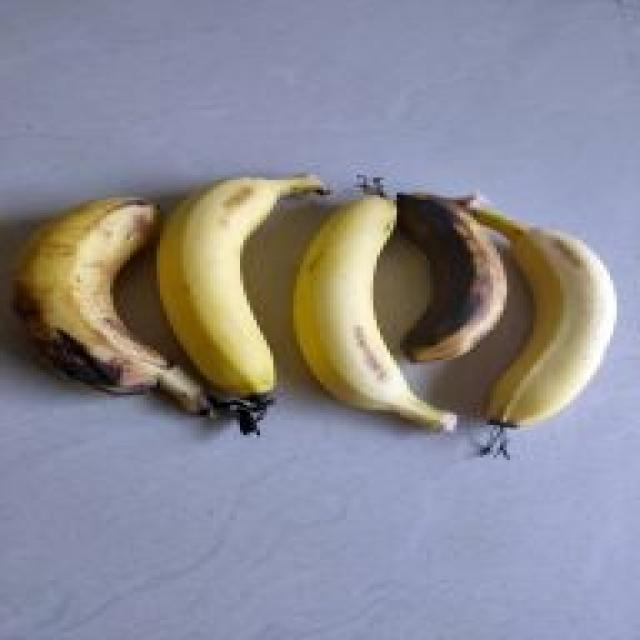Organik: (140, 120, 327, 442), (25, 165, 198, 433), (296, 166, 461, 434), (460, 181, 614, 444), (388, 172, 513, 363)
